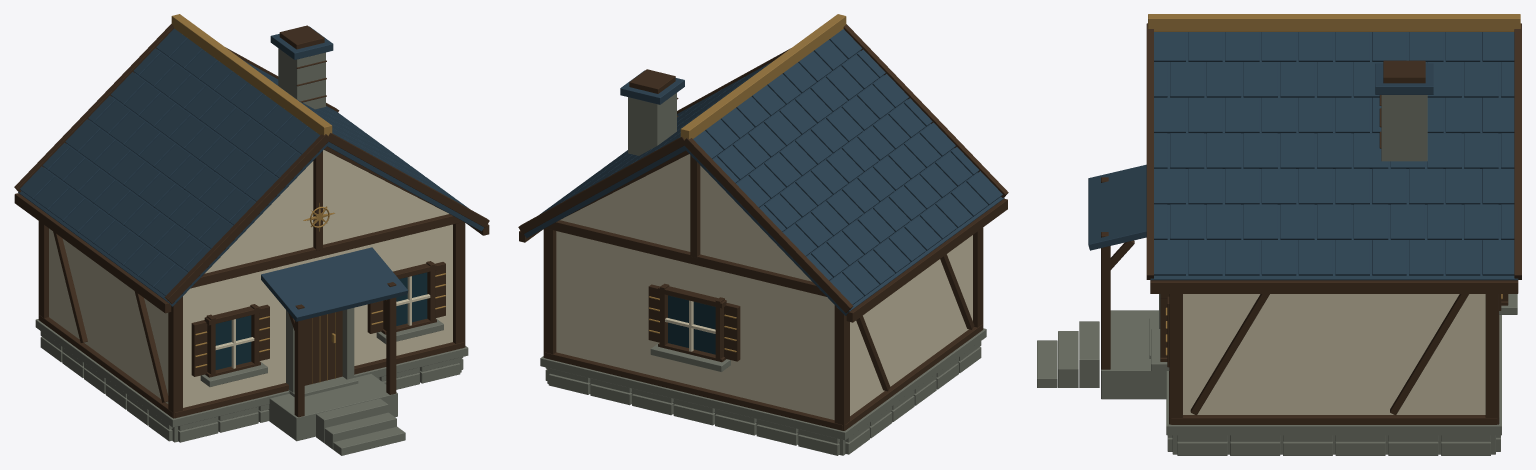
File: House_Cottage_LOD0.fbx
3 renders of one model, left to right at view 1: azimuth 30°, elevation 25°; view 2: azimuth 150°, elevation 25°; view 3: azimuth 270°, elevation 25°, orthographic. The views are drawn at different scales.
Parts seen in each view (by area): view 1: House_Cottage_Body; view 2: House_Cottage_Body; view 3: House_Cottage_Body.
Part boxes in pixels (x1,y1,x2,y2): House_Cottage_Body: (14,14,489,455); House_Cottage_Body: (518,14,1008,455); House_Cottage_Body: (1037,14,1521,455).
Size of the model in its own units: 7.81 by 6.64 by 8.28.
